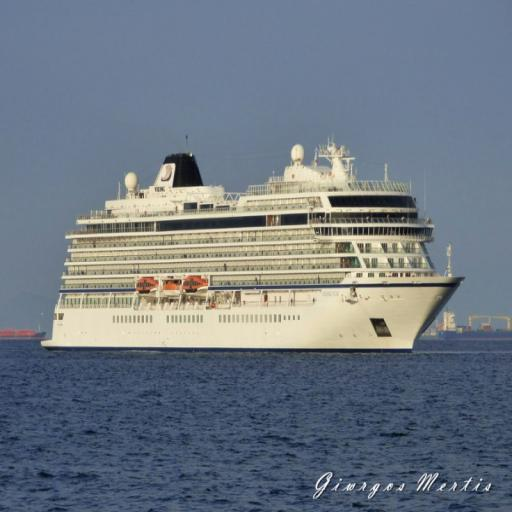cruises: (39, 133, 469, 360)
